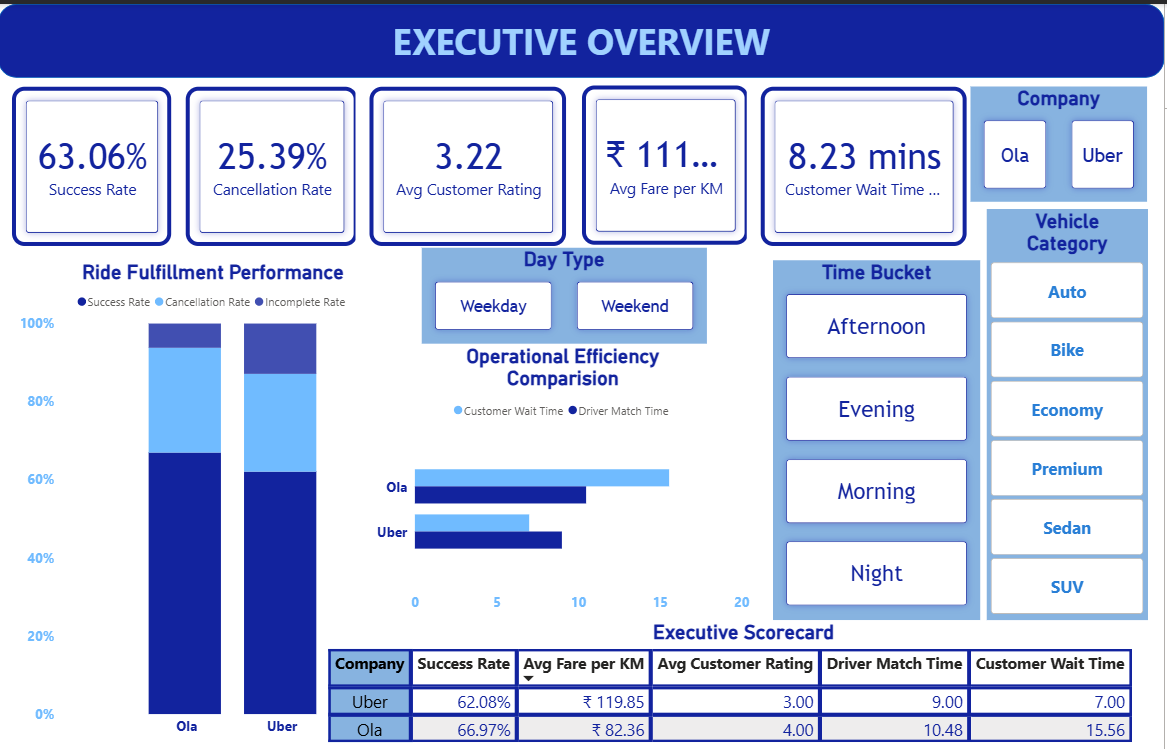

The dashboard page shown, as its layout file describes it:
{"tool":"powerbi","page":{"name":"Page 1","canvas":[1400,900],"ordinal":0},"visuals":[{"type":"cardVisual","fields":{"Data":["Total_Data_Ola&Uber.Success Rate"]},"box":[0,82.3,225,225],"z":0},{"type":"cardVisual","fields":{"Data":["Total_Data_Ola&Uber.Cancellation Rate"]},"box":[208.6,82.5,240.1,225.1],"z":1000},{"type":"cardVisual","fields":{"Data":["Total_Data_Ola&Uber.Avg Customer Rating"]},"box":[429.2,82.5,270.2,225.1],"z":2000},{"type":"cardVisual","fields":{"Data":["Total_Data_Ola&Uber.Avg Fare per KM"]},"box":[684.4,81,234.1,225.1],"z":3000},{"type":"cardVisual","fields":{"Data":["Total_Data_Ola&Uber.Customer Wait Time Display"]},"box":[898.9,82.7,281.4,225.4],"z":4000},{"type":"textbox","box":[0,307.5,225,225],"z":5000},{"type":"shape","box":[0,0,1400.3,88.6],"z":6000},{"type":"textbox","box":[0,10.5,1400.3,70.5],"z":7000},{"type":"hundredPercentStackedColumnChart","title":"Ride Fulfillment Performance","fields":{"Category":["Total_Data_Ola&Uber.Company"],"Y":["Total_Data_Ola&Uber.Success Rate","Total_Data_Ola&Uber.Cancellation Rate","Total_Data_Ola&Uber.Incompletion Rate"]},"box":[21,307.7,474.3,580.8],"z":8000},{"type":"tableEx","title":"Executive Scorecard","fields":{"Values":["Total_Data_Ola&Uber.Company","Total_Data_Ola&Uber.Success Rate","Total_Data_Ola&Uber.Avg Fare per KM","Total_Data_Ola&Uber.Avg Customer Rating","Total_Data_Ola&Uber.Driver Match Time","Total_Data_Ola&Uber.Customer Wait Time"]},"box":[390.2,739.9,1010.1,160.6],"z":9000},{"type":"clusteredBarChart","title":"Operational Efficiency Comparision","fields":{"Category":["Total_Data_Ola&Uber.Company"],"Y":["Total_Data_Ola&Uber.Customer Wait Time","Total_Data_Ola&Uber.Driver Match Time"]},"box":[448.8,408.2,459.3,331.7],"z":10000},{"type":"advancedSlicerVisual","fields":{"Values":["Total_Data_Ola&Uber.Company"]},"box":[1168.4,98.7,212.1,138.7],"z":11000},{"type":"advancedSlicerVisual","title":"Vehicle Category","fields":{"Values":["Total_Data_Ola&Uber.Vehicle_Category"]},"box":[1187.2,246.1,193.6,493.8],"z":12000},{"type":"advancedSlicerVisual","title":"Day Type","fields":{"Values":["Total_Data_Ola&Uber.Day_Type"]},"box":[508.8,292.7,342.2,115.6],"z":13000},{"type":"advancedSlicerVisual","title":"Time Bucket","fields":{"Values":["Total_Data_Ola&Uber.Time_bucket"]},"box":[930.5,307.7,249.1,432.2],"z":14000}]}

Visuals, with their boxes in screenshot pixels (x1, y1, x2, y2), scaled from the page's 1400x900 canvas onto the 1167x749 screenshot:
cardVisual - Total_Data_Ola&Uber.Success Rate: (0, 68, 188, 256)
cardVisual - Total_Data_Ola&Uber.Cancellation Rate: (174, 69, 374, 256)
cardVisual - Total_Data_Ola&Uber.Avg Customer Rating: (358, 69, 583, 256)
cardVisual - Total_Data_Ola&Uber.Avg Fare per KM: (570, 67, 766, 255)
cardVisual - Total_Data_Ola&Uber.Customer Wait Time Display: (749, 69, 984, 256)
textbox: (0, 256, 188, 443)
shape: (0, 0, 1166, 74)
textbox: (0, 9, 1166, 67)
"Ride Fulfillment Performance" hundredPercentStackedColumnChart: (18, 256, 413, 739)
"Executive Scorecard" tableEx: (325, 616, 1166, 748)
"Operational Efficiency Comparision" clusteredBarChart: (374, 340, 757, 616)
advancedSlicerVisual - Total_Data_Ola&Uber.Company: (974, 82, 1151, 198)
"Vehicle Category" advancedSlicerVisual: (990, 205, 1151, 616)
"Day Type" advancedSlicerVisual: (424, 244, 709, 340)
"Time Bucket" advancedSlicerVisual: (776, 256, 983, 616)
